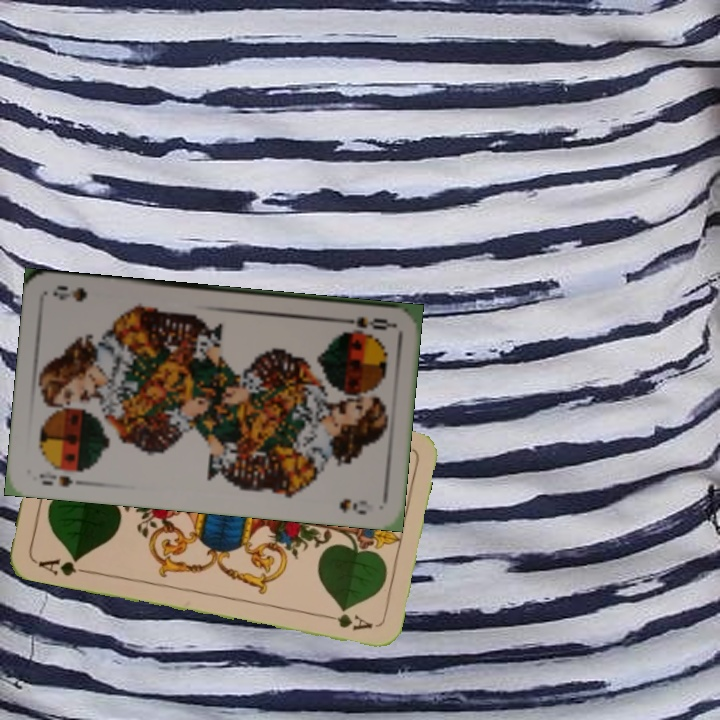GA: (34, 553, 92, 579)
SO: (336, 313, 395, 333), (35, 470, 89, 489)
